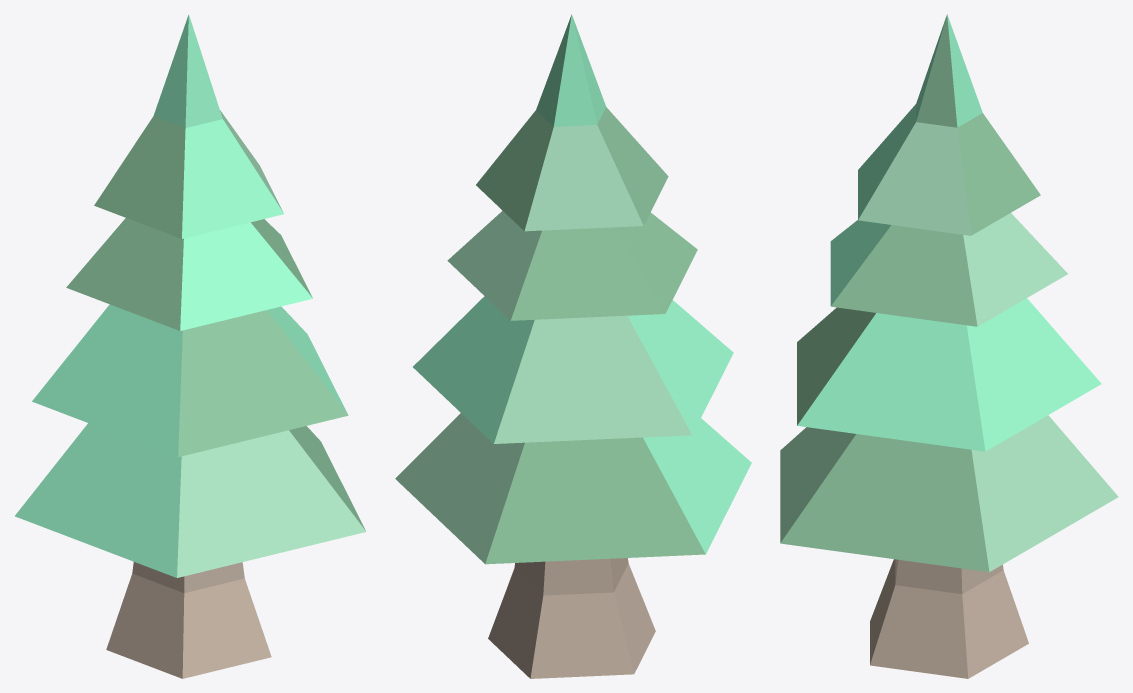
File: Spruce.fbx
3 views of the same model, side by side, from view 1: azimuth 30°, elevation 25°; view 2: azimuth 150°, elevation 25°; view 3: azimuth 270°, elevation 25° (orthographic).
Parts seen in each view (by area): view 1: Spruce; view 2: Spruce; view 3: Spruce.
Part boxes in pixels (x1,y1,x2,y2): Spruce: [15, 14, 366, 678]; Spruce: [395, 14, 751, 678]; Spruce: [780, 14, 1118, 678].
Bounding box in the file's own units: 1.58 × 3.08 × 1.5.
